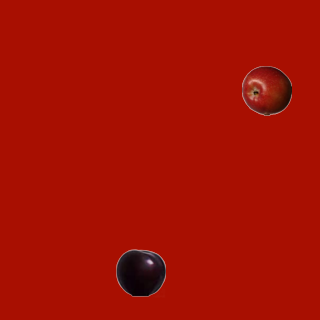Apple Braeburn: (241, 65, 291, 115)
Cherry Wax Black: (115, 247, 165, 297)
